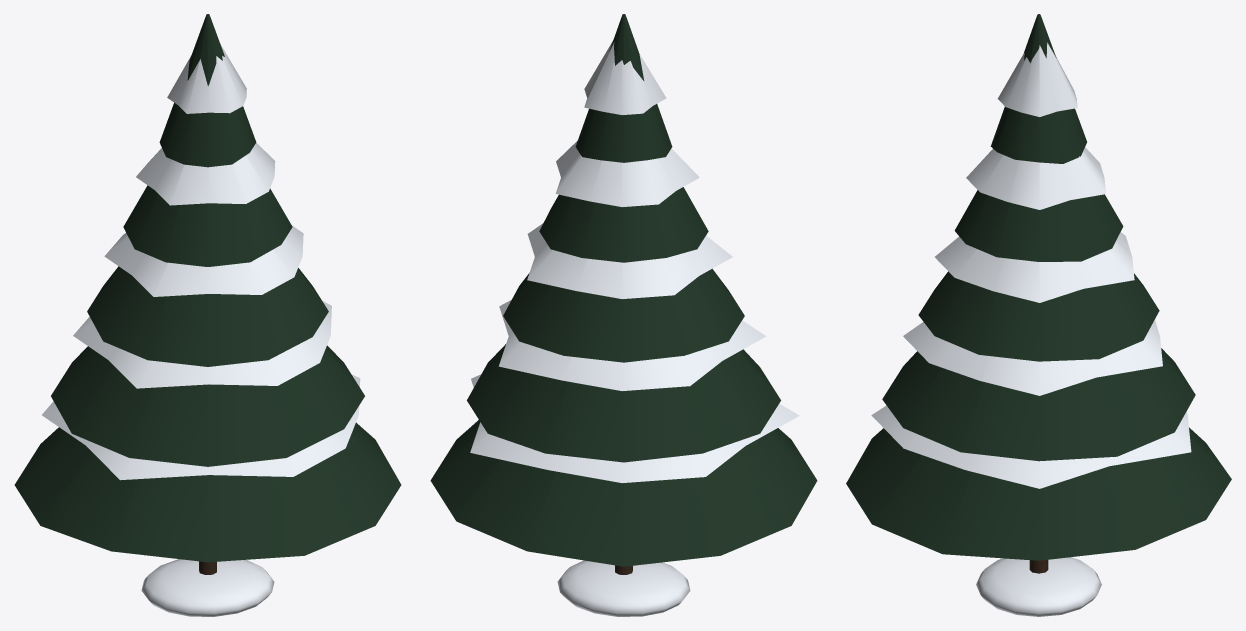
Rendered from pine_c.glb.
3 renders of one model, left to right at view 1: azimuth 30°, elevation 25°; view 2: azimuth 150°, elevation 25°; view 3: azimuth 270°, elevation 25°, orthographic.
Visible parts, largest first — view 1: Pine; view 2: Pine; view 3: Pine.
Part boxes in pixels (<box>): Pine: <box>14,14,401,616</box>; Pine: <box>430,14,817,616</box>; Pine: <box>846,14,1231,616</box>.
Bounding box in the file's own units: 4.78 × 8 × 4.78.
